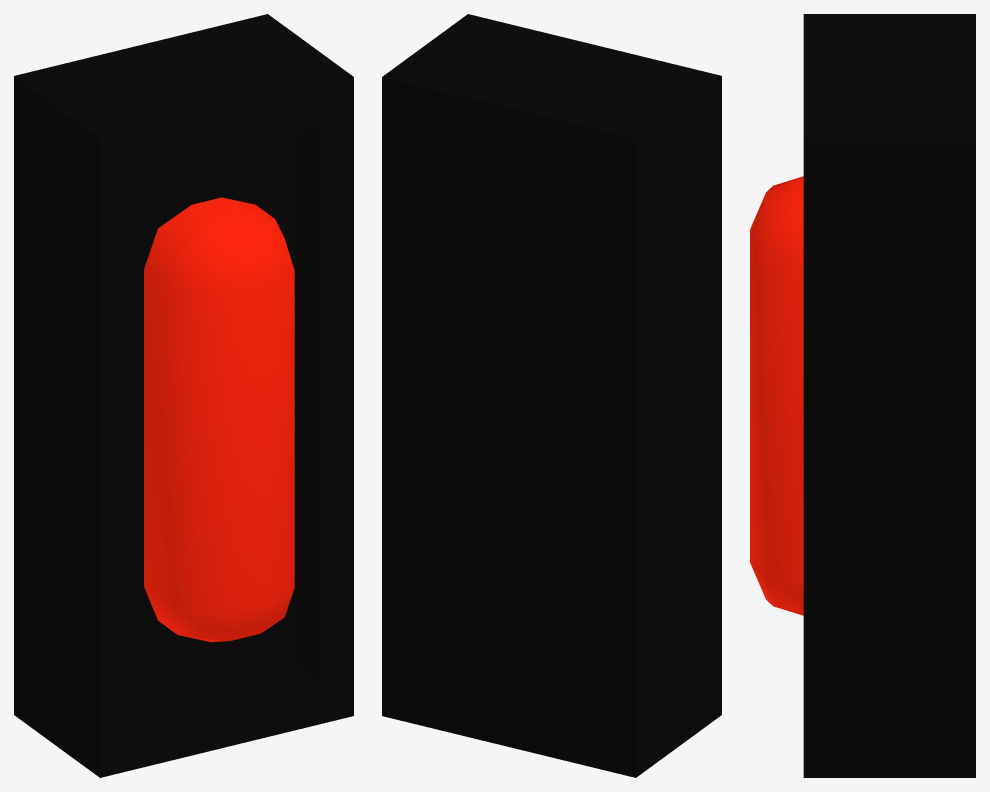
Rendered from Lamp_Red.glb.
The picture shows the model from 3 angles, left to right: view 1: azimuth 30°, elevation 25°; view 2: azimuth 150°, elevation 25°; view 3: azimuth 270°, elevation 25°; orthographic projection.
Parts seen in each view (by area): view 1: Lamp; view 2: Lamp; view 3: Lamp.
Part boxes in pixels (bbox=[...]): Lamp: bbox=[14, 14, 353, 777]; Lamp: bbox=[382, 14, 721, 777]; Lamp: bbox=[750, 14, 975, 777].
Size of what is drawn, in the model's own units: 0.3973 by 0.9559 by 0.3059.
Materials: 1 (1 with a texture image).
